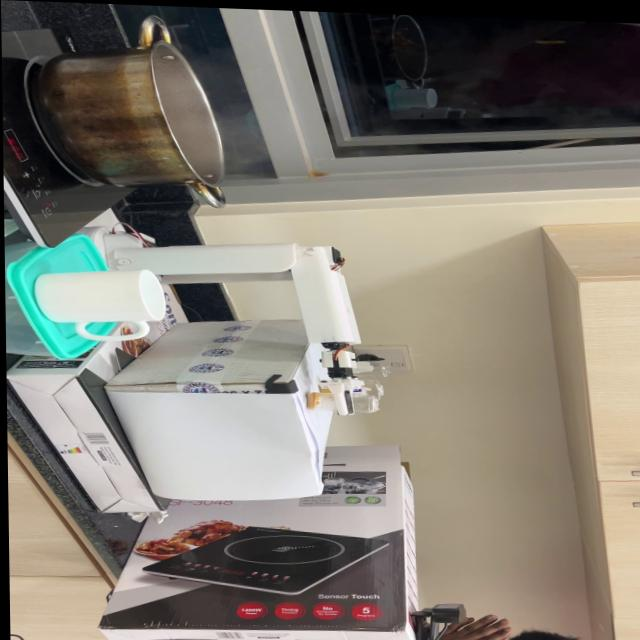cooking_pot: (32, 11, 225, 211)
garlic_powder: (302, 388, 323, 408)
